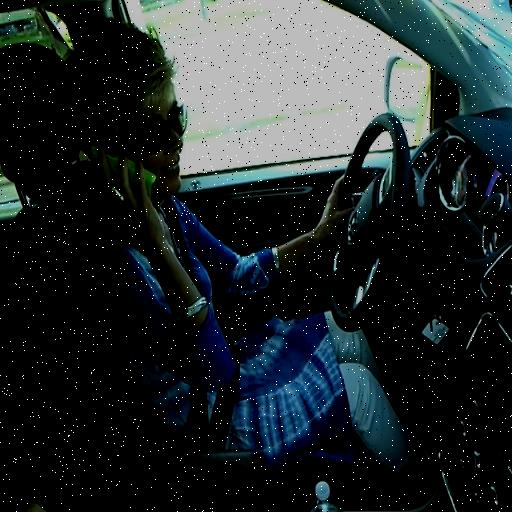talking_phone: (63, 50, 380, 436)
